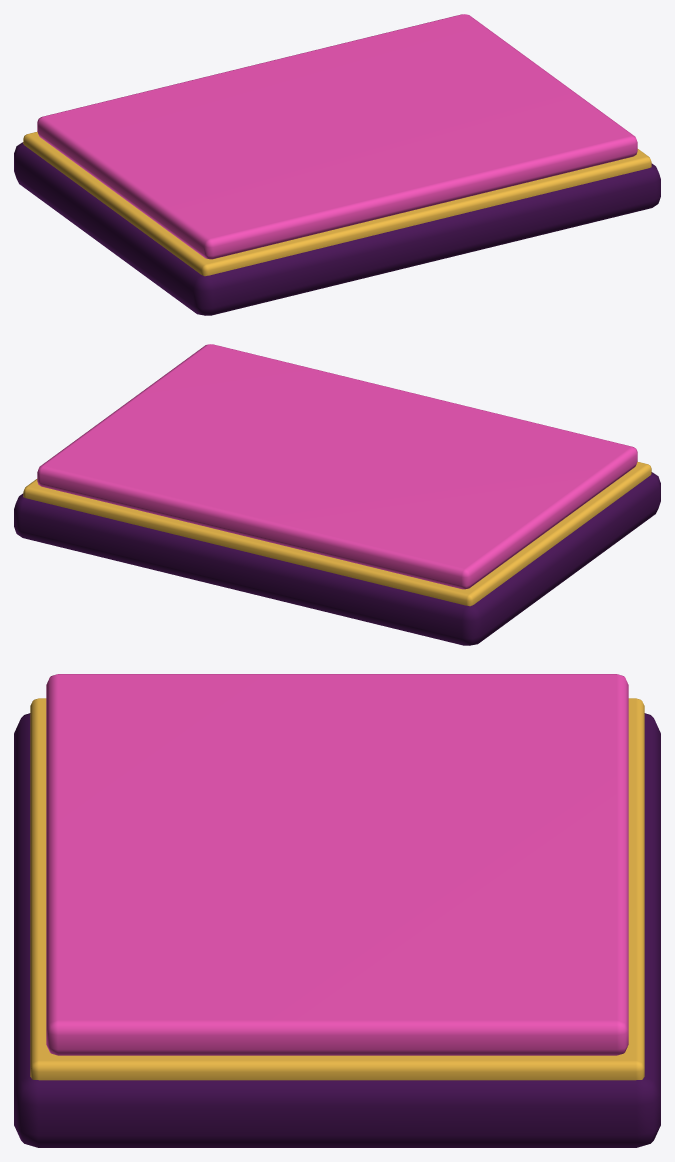
File: chess-plinth.glb
3 views of the same model, one above another, from view 1: azimuth 30°, elevation 25°; view 2: azimuth 150°, elevation 25°; view 3: azimuth 270°, elevation 25° (orthographic). The views are drawn at different scales.
Parts seen in each view (by area): view 1: display_top, display_base, brass_band; view 2: display_top, display_base, brass_band; view 3: display_top, display_base, brass_band.
Boxes of the visible parts, left/top/right/bottom form: display_top: left=37, top=14, right=637, bottom=259; display_base: left=14, top=142, right=660, bottom=315; brass_band: left=23, top=131, right=651, bottom=276; display_top: left=37, top=344, right=637, bottom=589; display_base: left=14, top=472, right=660, bottom=645; brass_band: left=23, top=461, right=651, bottom=606; display_top: left=46, top=674, right=628, bottom=1055; display_base: left=14, top=713, right=660, bottom=1147; brass_band: left=30, top=698, right=644, bottom=1080.
Bounding box in the file's own units: 0.56 × 0.081 × 0.4.
